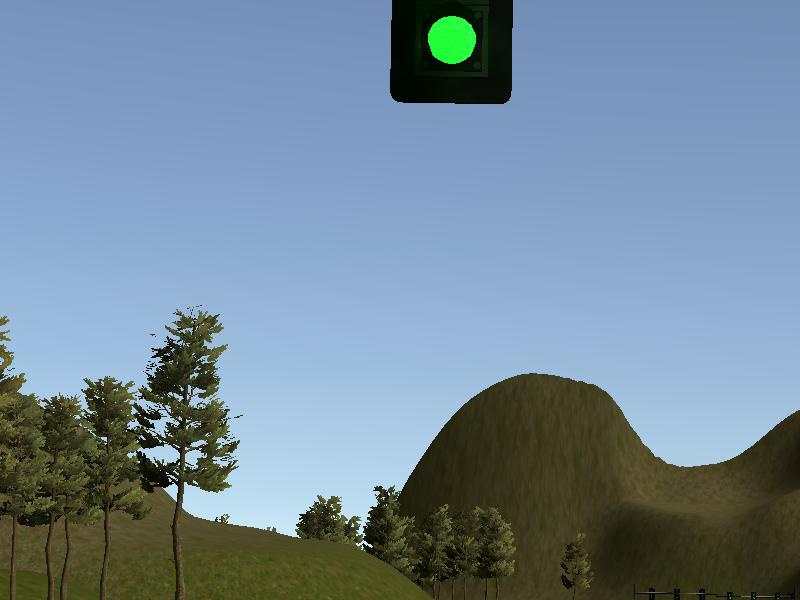Green: (387, 1, 515, 109)
